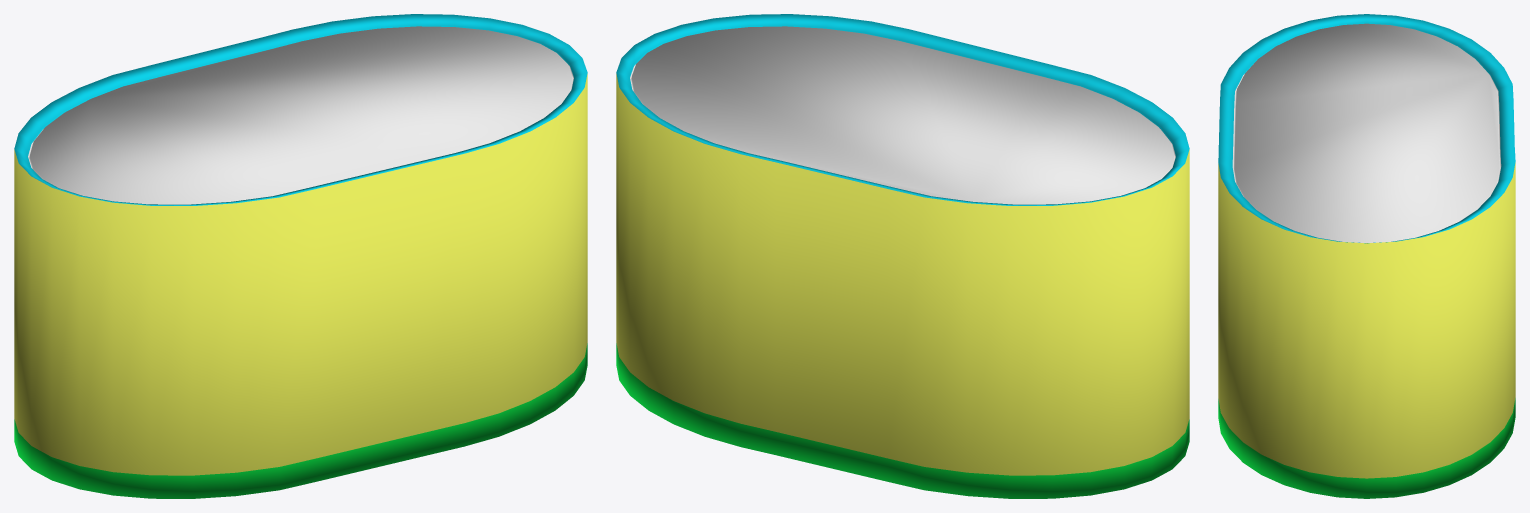
Rendered from table_id.fbx.
3 renders of one model, left to right at view 1: azimuth 30°, elevation 25°; view 2: azimuth 150°, elevation 25°; view 3: azimuth 270°, elevation 25°, orthographic. The views are drawn at different scales.
Parts seen in each view (by area): view 1: table; view 2: table; view 3: table.
Boxes of the visible parts, <box> form: table: <box>14,14,587,498</box>; table: <box>616,14,1189,498</box>; table: <box>1218,14,1515,498</box>.
Size of the model in its own units: 269 by 140 by 148.
